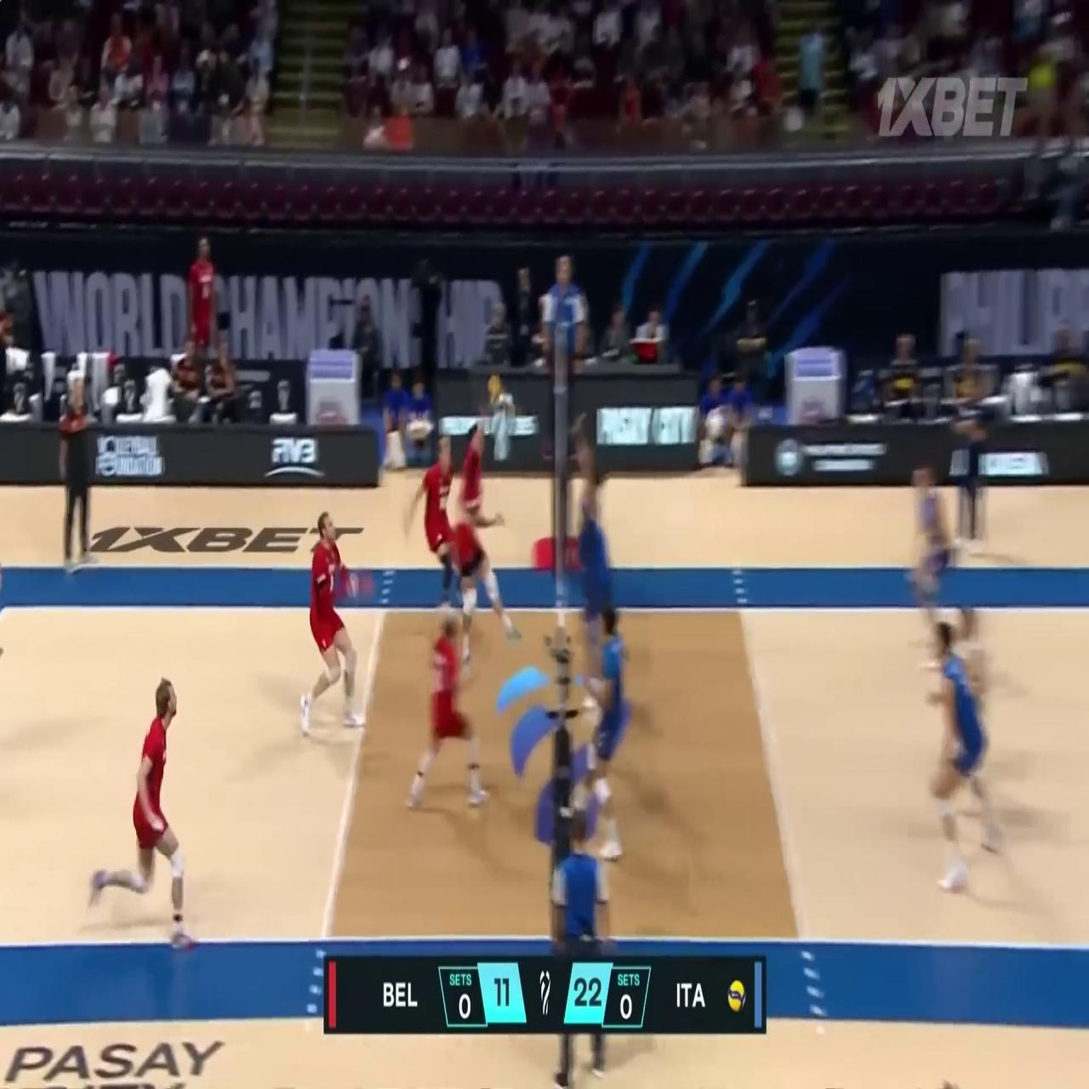ball: (487, 376, 502, 399)
